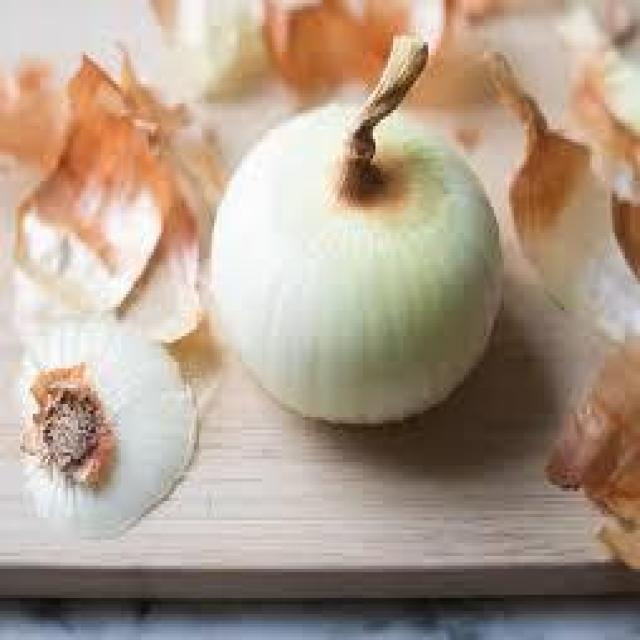Onion: (213, 42, 508, 433), (29, 52, 213, 339), (486, 48, 640, 330), (22, 322, 180, 522), (536, 336, 640, 578), (248, 0, 445, 110), (335, 16, 431, 213)
